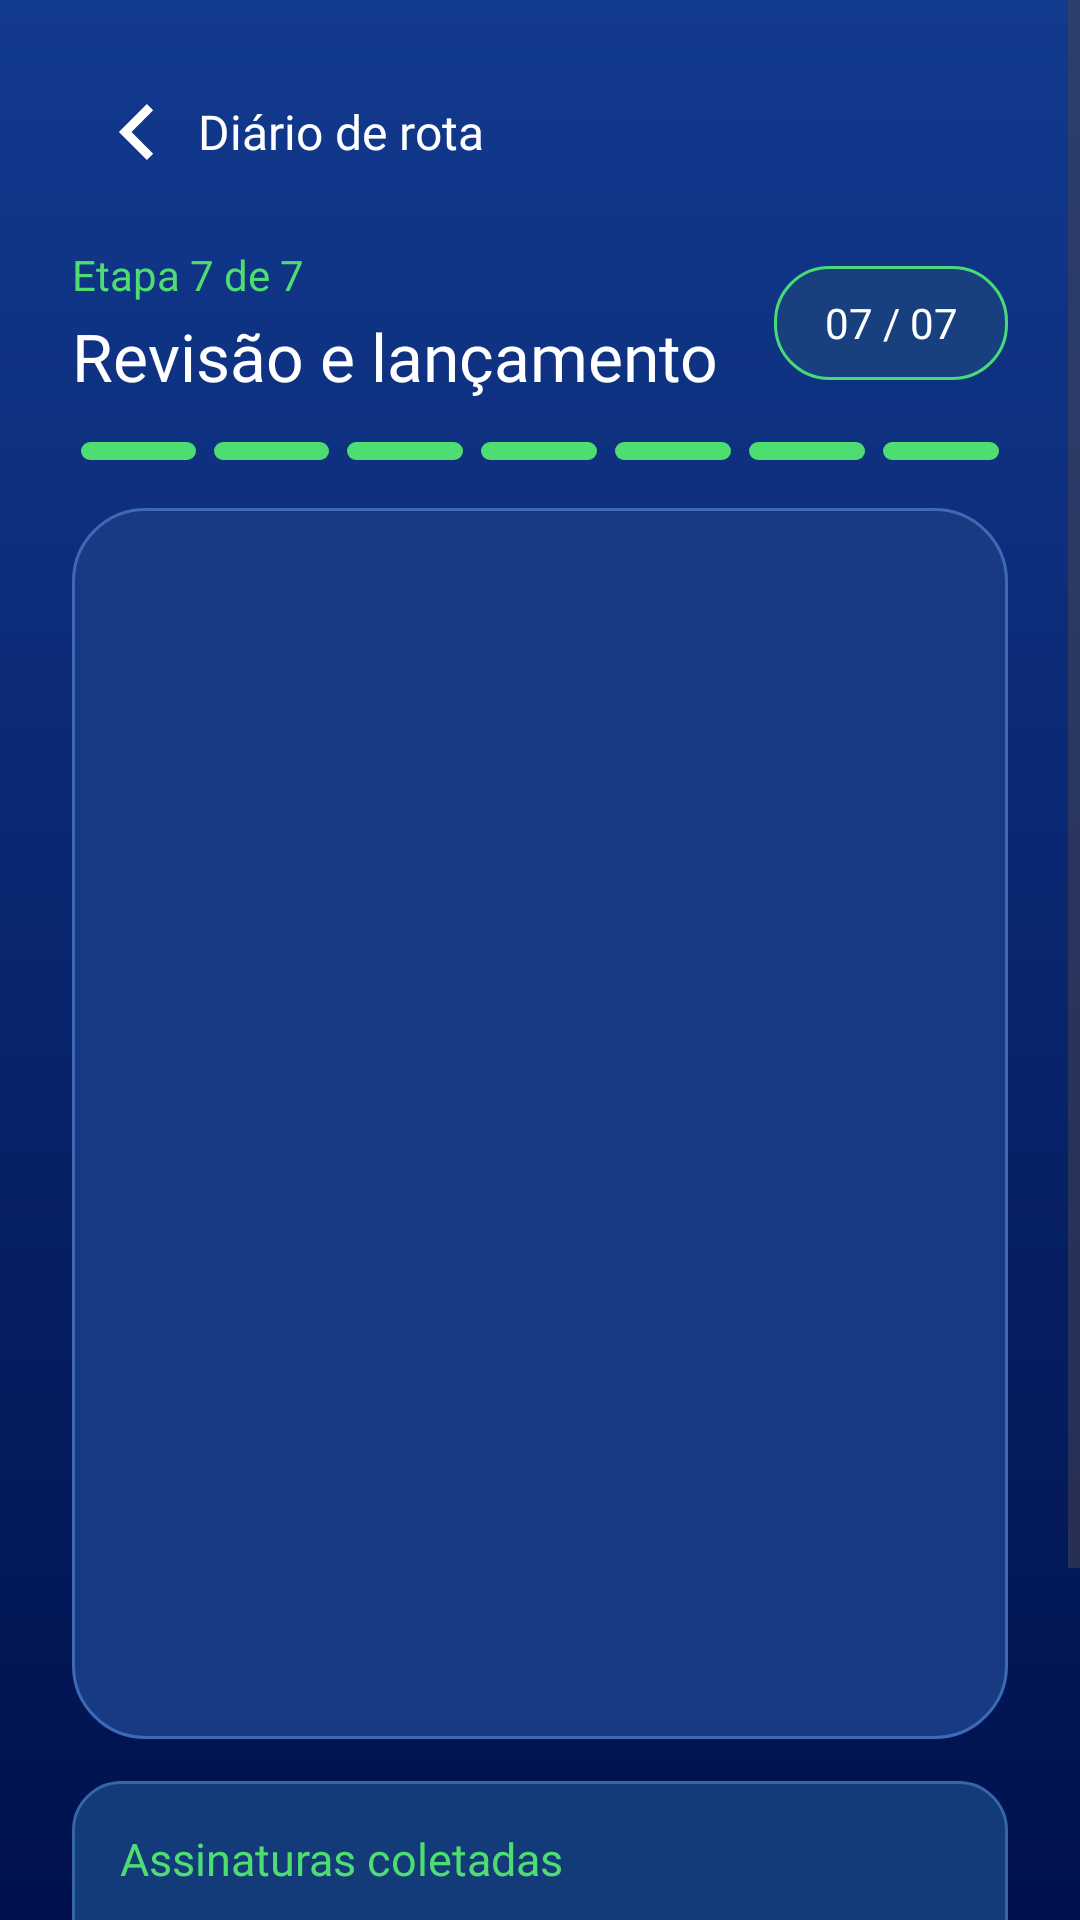

Icons on this 1080 x 1920 Android screen, each with its box as Rect(x1, y1, x2, y2):
Voltar: Rect(119, 104, 153, 160)
